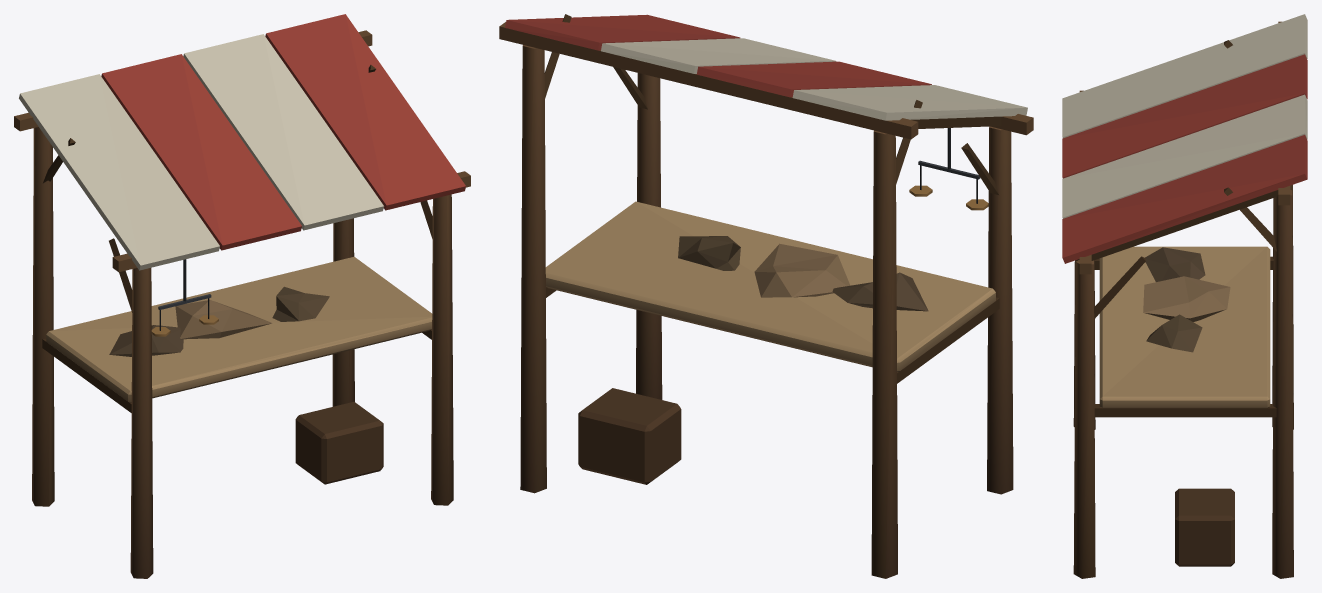
File: market-stall.glb
3 renders of one model, left to right at view 1: azimuth 30°, elevation 25°; view 2: azimuth 150°, elevation 25°; view 3: azimuth 270°, elevation 25°, orthographic. The views are drawn at different scales.
Visible parts, largest first — view 1: market_stall; view 2: market_stall; view 3: market_stall.
Part boxes in pixels (x1,y1,x2,y2): market_stall: (14,14,470,578); market_stall: (499,14,1033,578); market_stall: (1062,14,1307,578).
Bounding box in the file's own units: 2.04 × 2.24 × 1.22.
